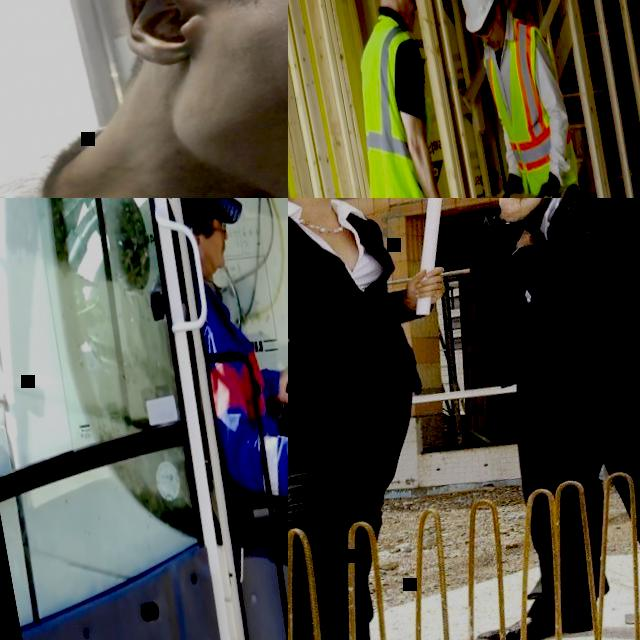helmet: (456, 0, 504, 33)
machinery: (0, 198, 288, 640)
no_helmet: (174, 198, 226, 229)
no_mask: (167, 37, 288, 198), (201, 242, 229, 274), (402, 6, 419, 30), (490, 30, 502, 52)
no_vest: (477, 198, 640, 384), (288, 198, 409, 403), (0, 122, 288, 198)
person: (376, 198, 640, 640), (288, 198, 512, 640), (0, 0, 288, 198), (169, 198, 288, 640), (322, 0, 512, 198), (456, 0, 633, 198)
vest: (338, 11, 447, 198), (478, 10, 585, 198), (198, 298, 288, 508)
